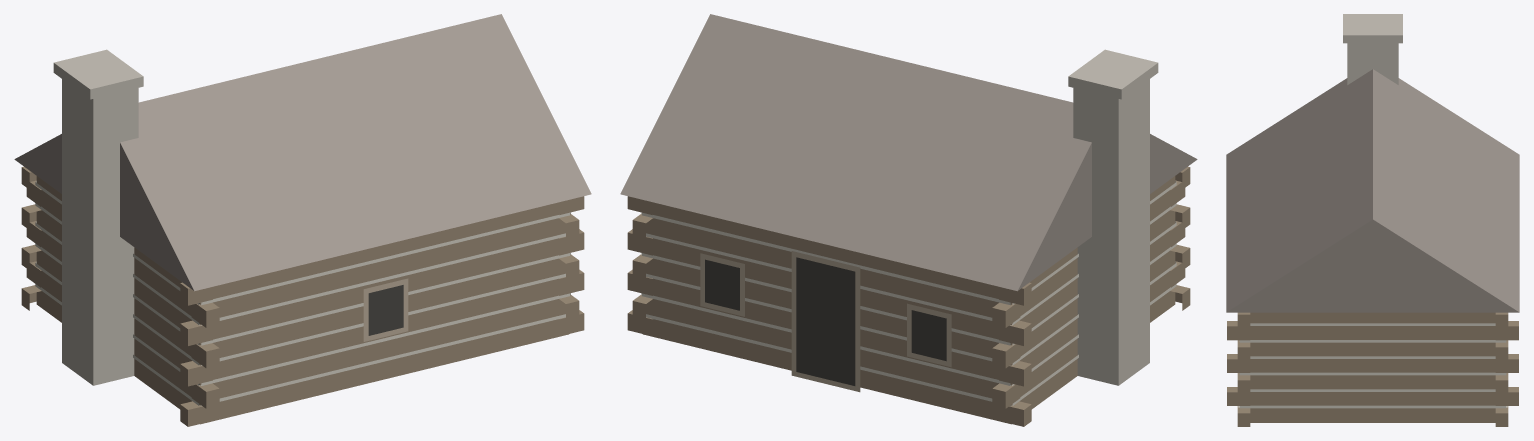
File: robinson_caldwell_cabins__log_1831.glb
The picture shows the model from 3 angles, left to right: view 1: azimuth 30°, elevation 25°; view 2: azimuth 150°, elevation 25°; view 3: azimuth 270°, elevation 25°; orthographic projection. The views are drawn at different scales.
Parts seen in each view (by area): view 1: robinson_caldwell_cabins__log_1831; view 2: robinson_caldwell_cabins__log_1831; view 3: robinson_caldwell_cabins__log_1831.
Part boxes in pixels (left/top/right/bottom): robinson_caldwell_cabins__log_1831: left=14, top=14, right=591, bottom=426; robinson_caldwell_cabins__log_1831: left=620, top=14, right=1197, bottom=426; robinson_caldwell_cabins__log_1831: left=1226, top=14, right=1519, bottom=426.
Bounding box in the file's own units: 7.57 × 5.11 × 5.5.
